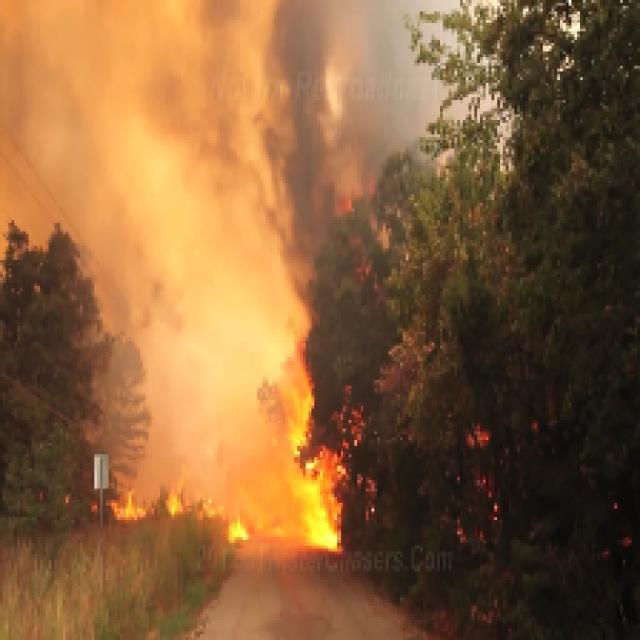Fire: (66, 352, 563, 597)
Smoke: (0, 0, 466, 349)
